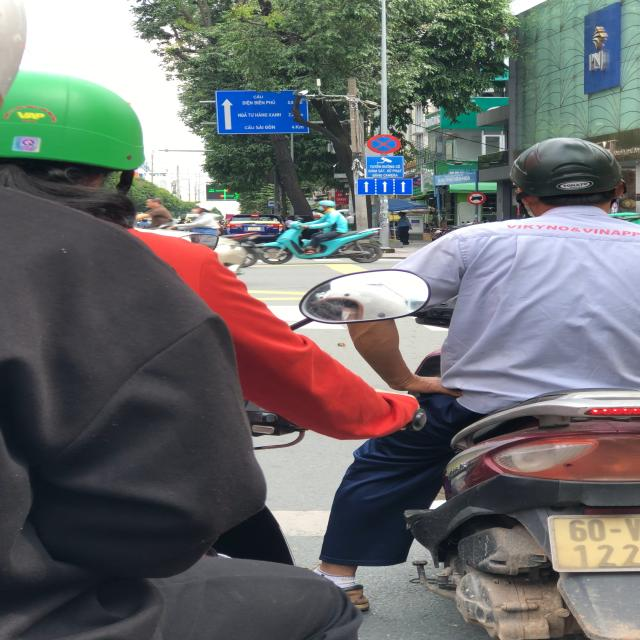Bien bao cam dung xe va do xe: (363, 133, 402, 156)
